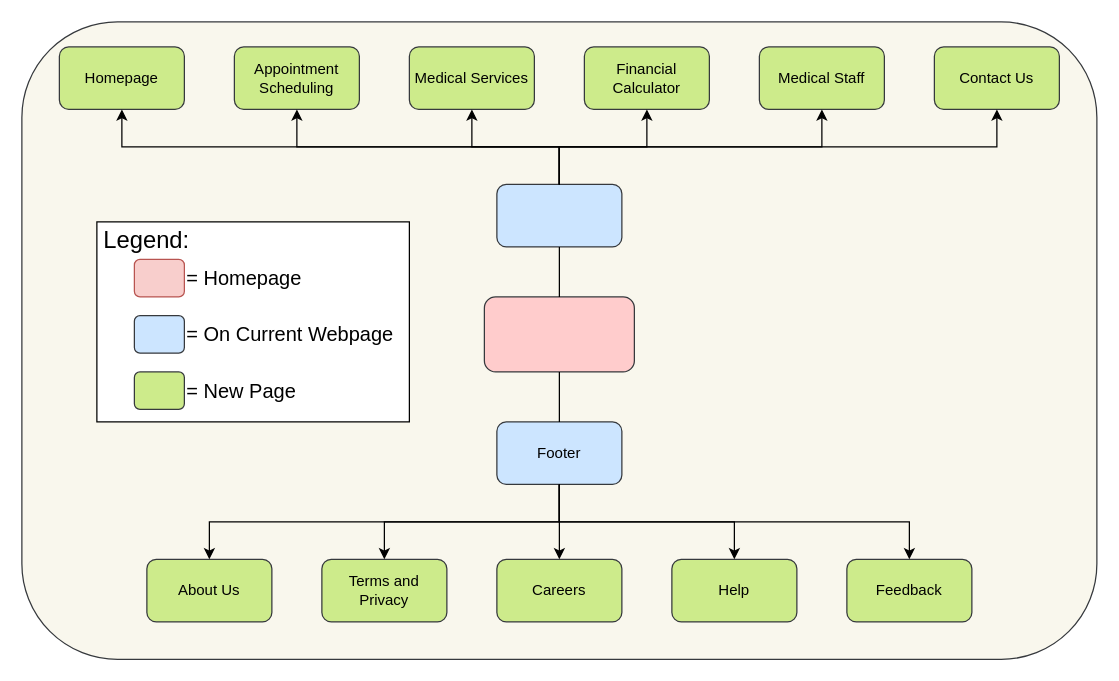
Image size: 1119x681. Some labels were removed from this diagram. The box of each missing label's shape, as (x1, y1, x2, y2) in pixels:
Header: (496, 183, 622, 247)
Webpage: (483, 296, 634, 372)
